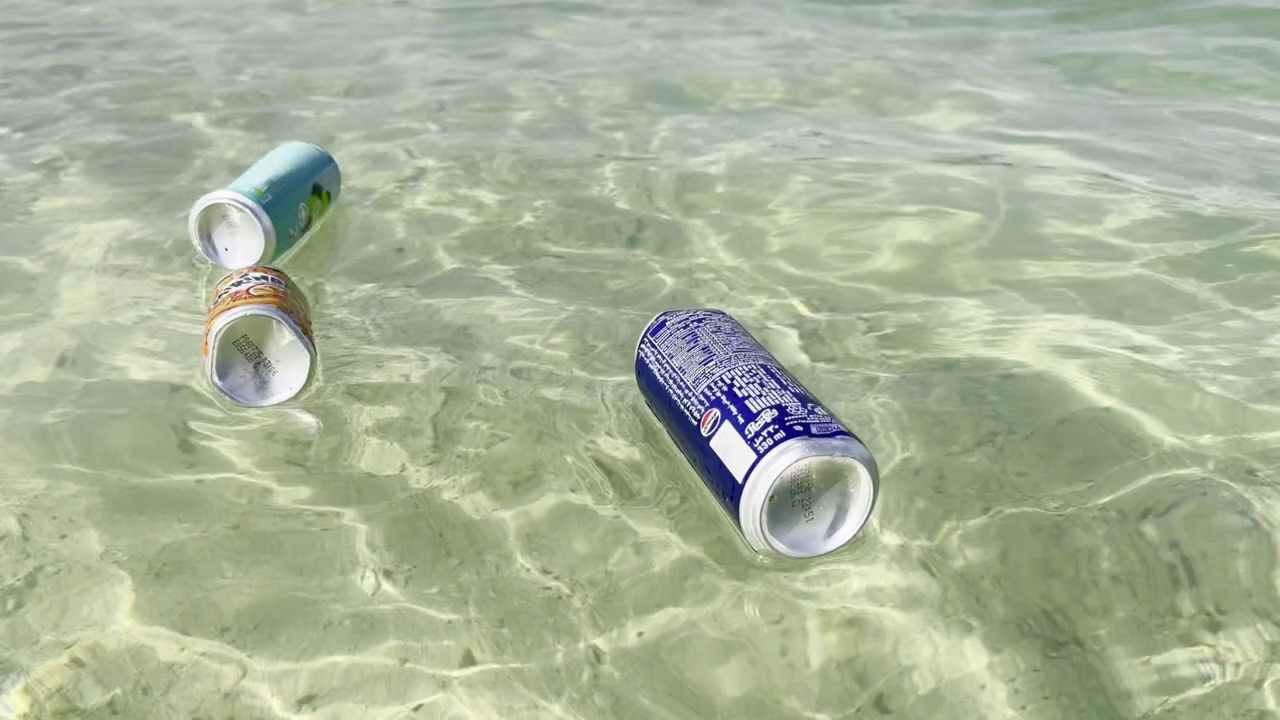debris: (622, 288, 890, 574), (180, 246, 340, 429), (180, 125, 355, 270)
